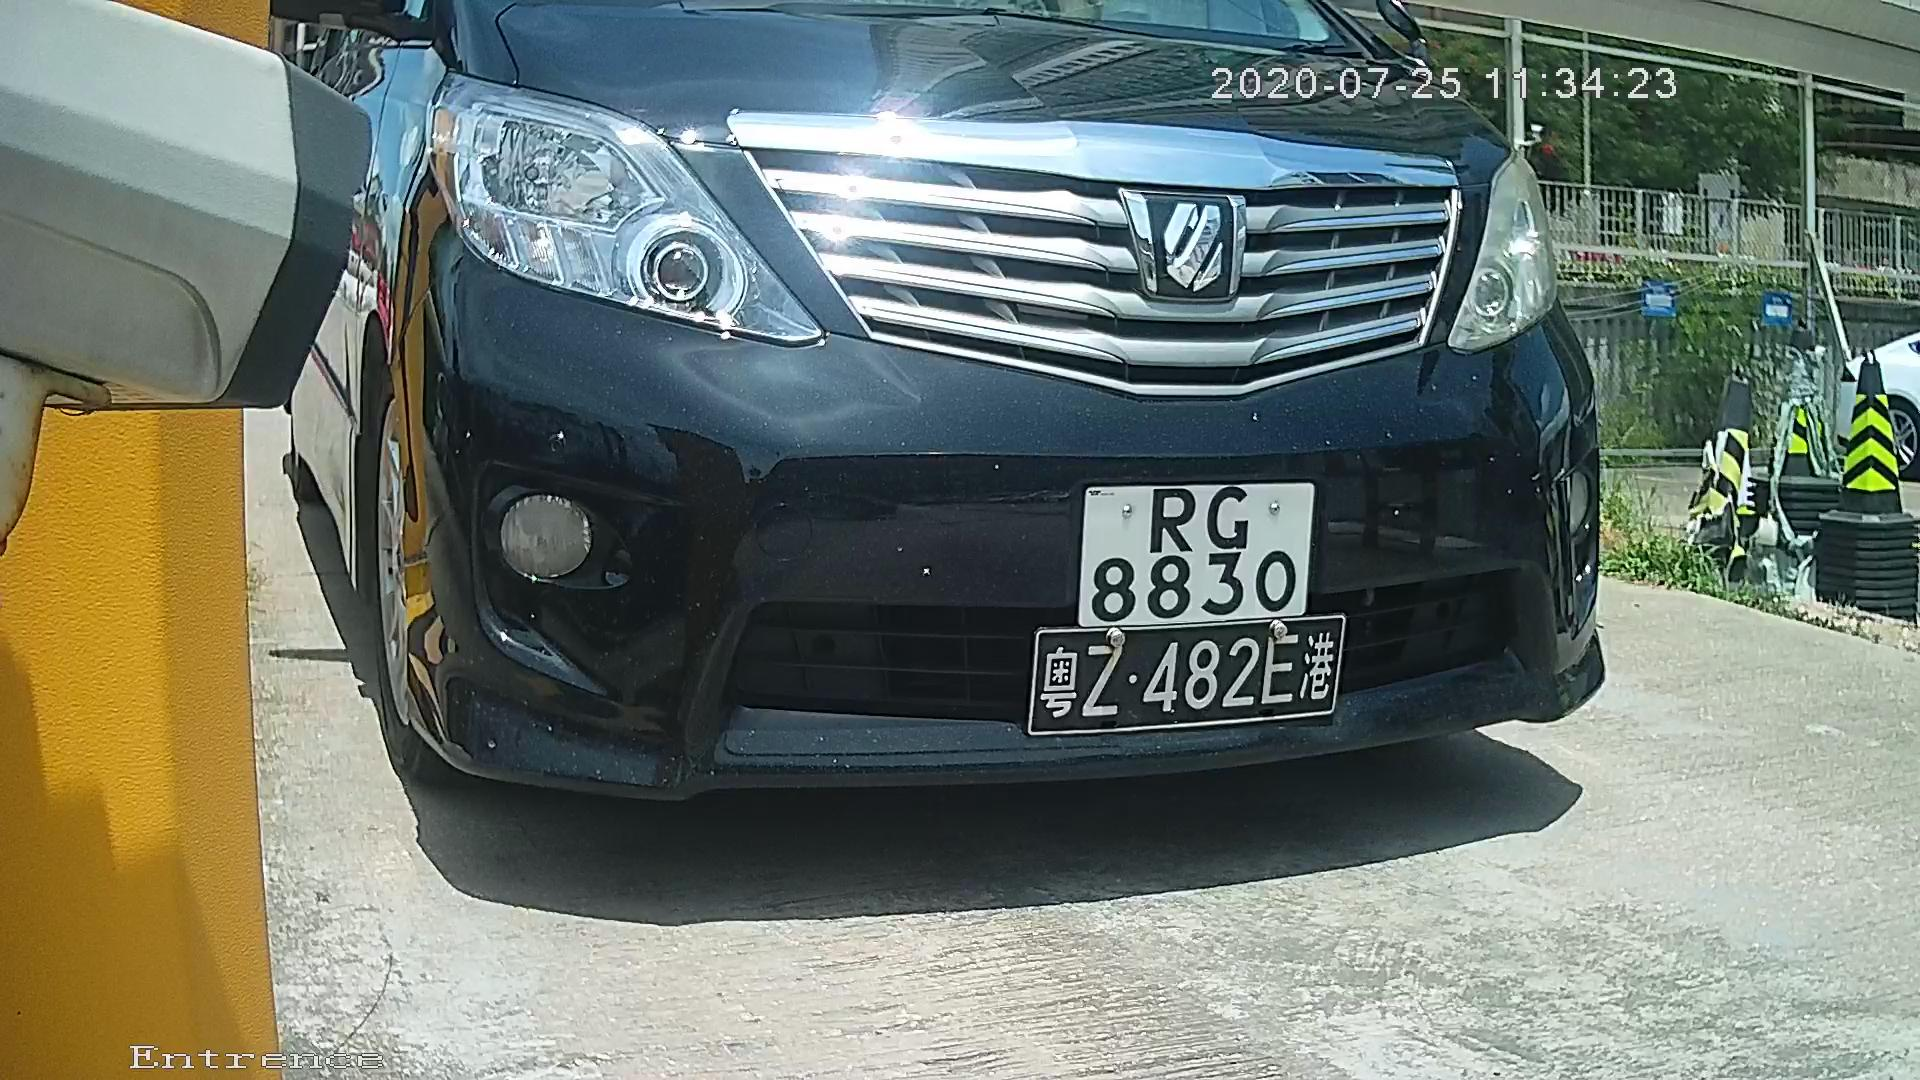License Plate: (1063, 454, 1338, 656)
